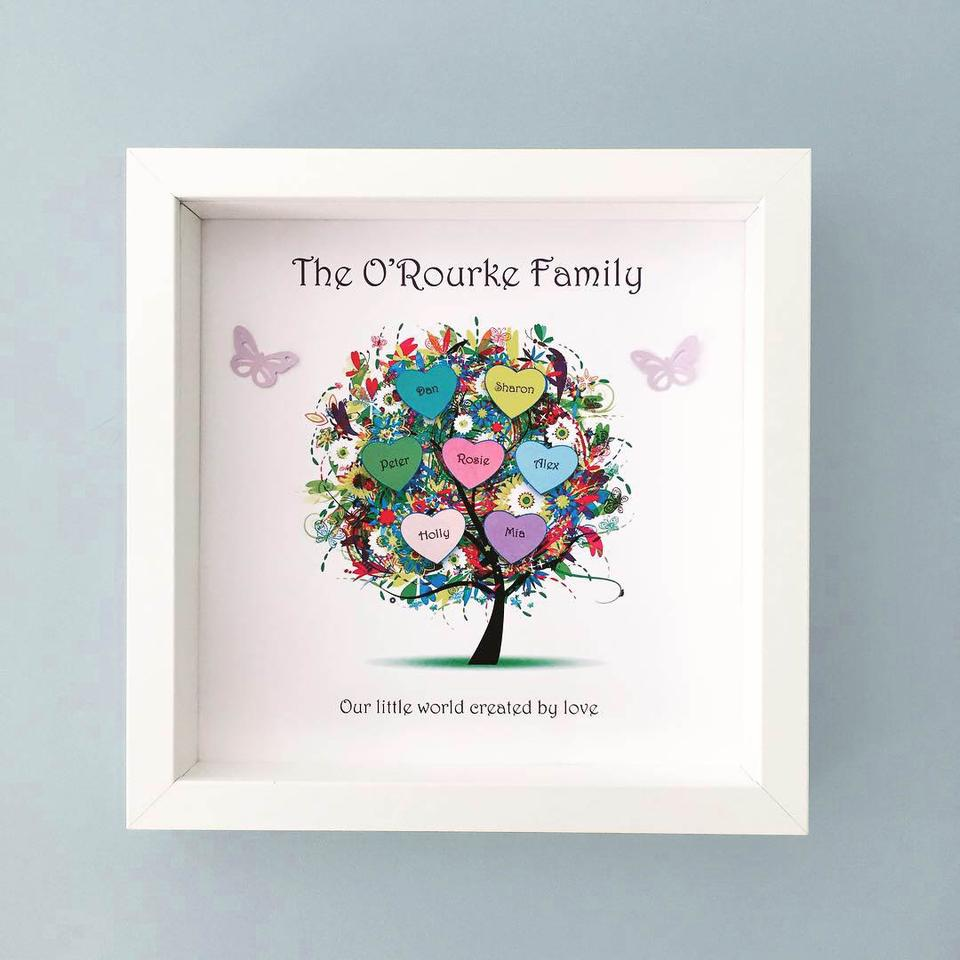foto: (35, 144, 922, 911)
